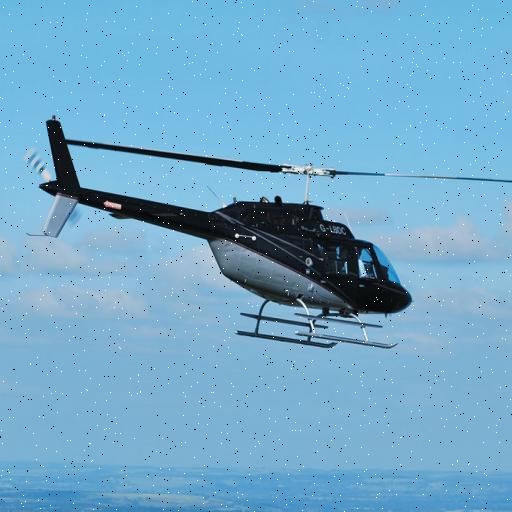helicopter: (25, 117, 512, 363)
